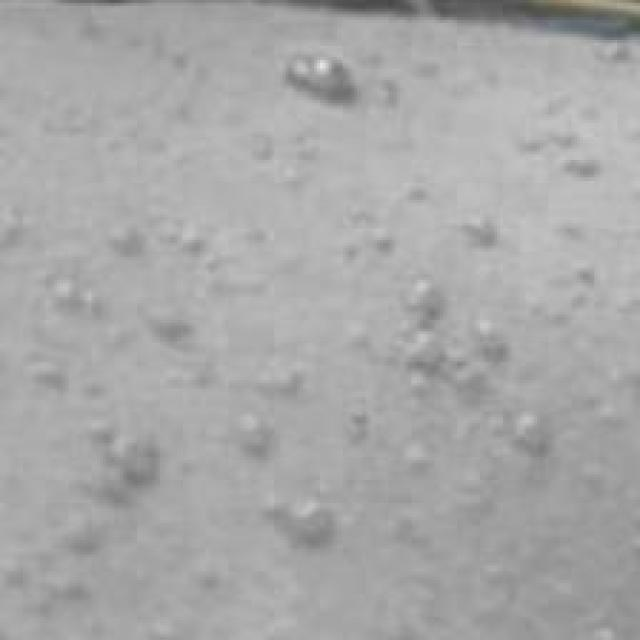others: (6, 9, 590, 615)
